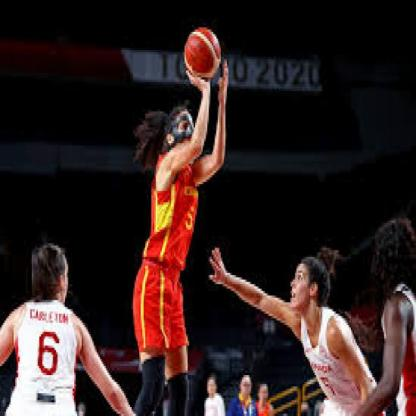basketball: (183, 27, 223, 82)
